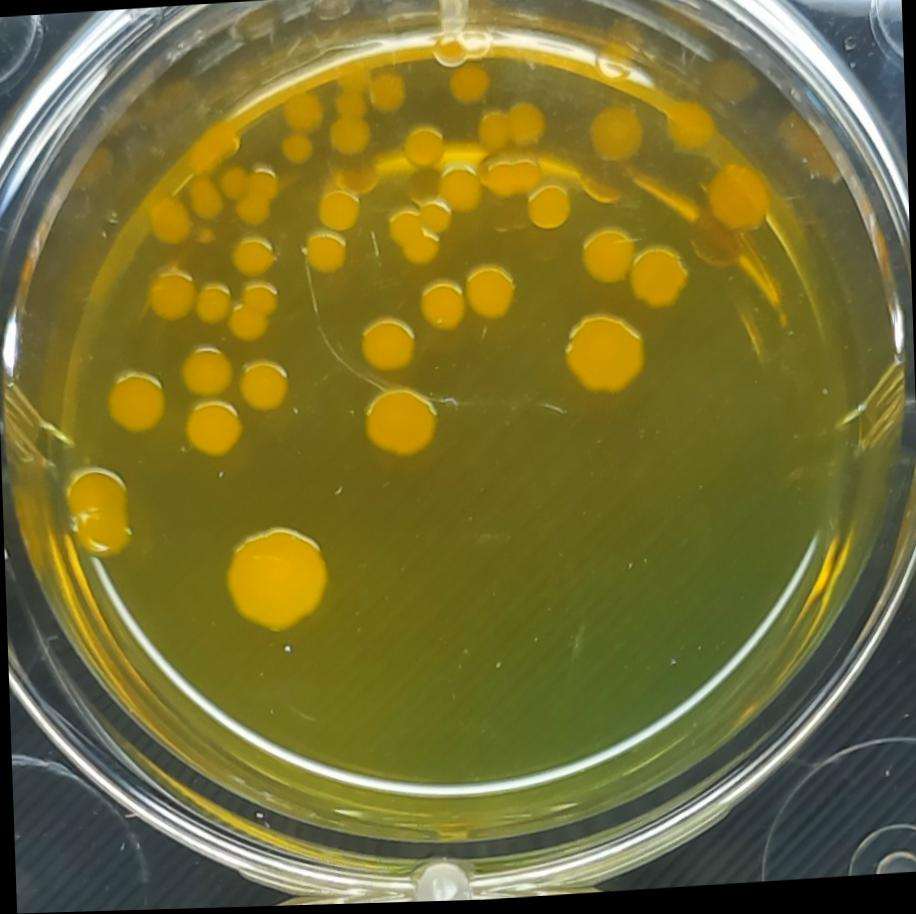vharveyi: (218, 513, 334, 647), (555, 301, 650, 404), (356, 371, 450, 469), (58, 456, 139, 564), (348, 307, 426, 388)
